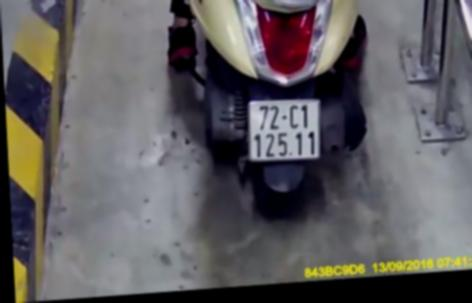License_Plate: (238, 90, 329, 169)
